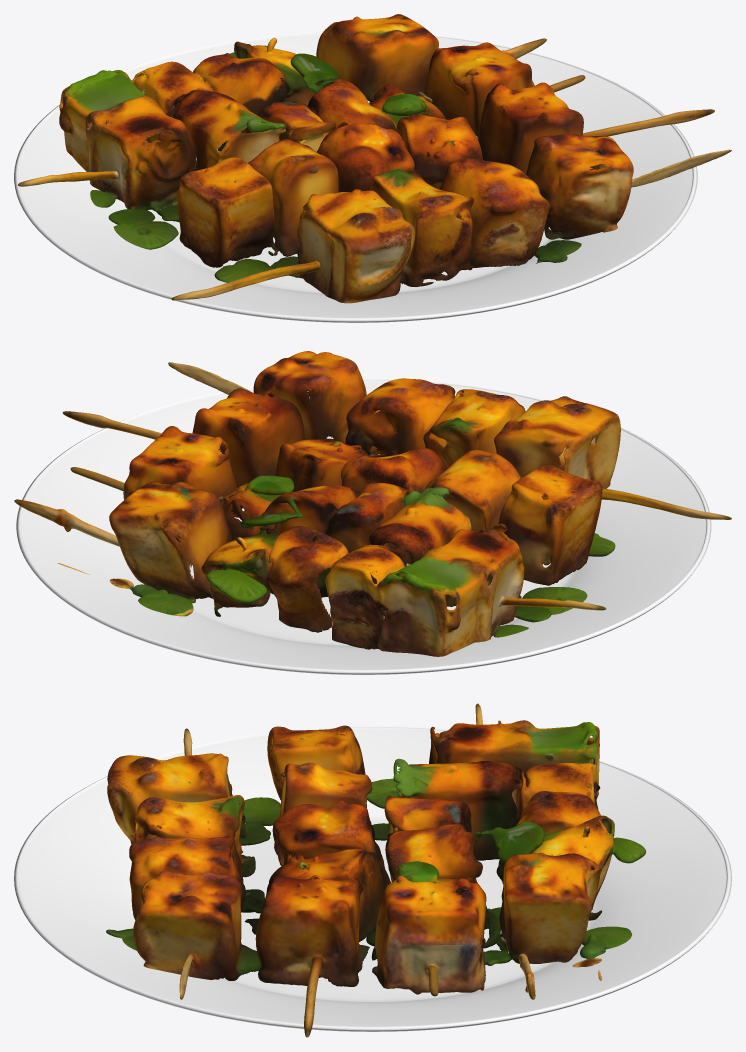
File: paneer-tikka.glb
3 views of the same model, one above another, from view 1: azimuth 30°, elevation 25°; view 2: azimuth 150°, elevation 25°; view 3: azimuth 270°, elevation 25° (orthographic). The views are drawn at different scales.
Parts seen in each view (by area): view 1: tripo_node_3fa8f8a0-f05e-418a-89d5-45632cdfd506, Circle; view 2: tripo_node_3fa8f8a0-f05e-418a-89d5-45632cdfd506, Circle; view 3: tripo_node_3fa8f8a0-f05e-418a-89d5-45632cdfd506, Circle.
Boxes of the visible parts, <box> form: tripo_node_3fa8f8a0-f05e-418a-89d5-45632cdfd506: <box>18,14,731,303</box>; Circle: <box>14,32,697,322</box>; tripo_node_3fa8f8a0-f05e-418a-89d5-45632cdfd506: <box>14,351,731,656</box>; Circle: <box>16,379,711,674</box>; tripo_node_3fa8f8a0-f05e-418a-89d5-45632cdfd506: <box>106,703,646,1037</box>; Circle: <box>14,726,731,1031</box>.
Bounding box in the file's own units: 7.95 × 1.27 × 7.55.
2 materials, 1 textured.
